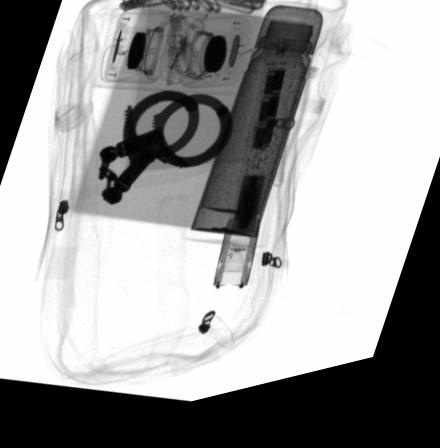Baton: (209, 65, 290, 300)
HandCuffs: (95, 97, 235, 210)
